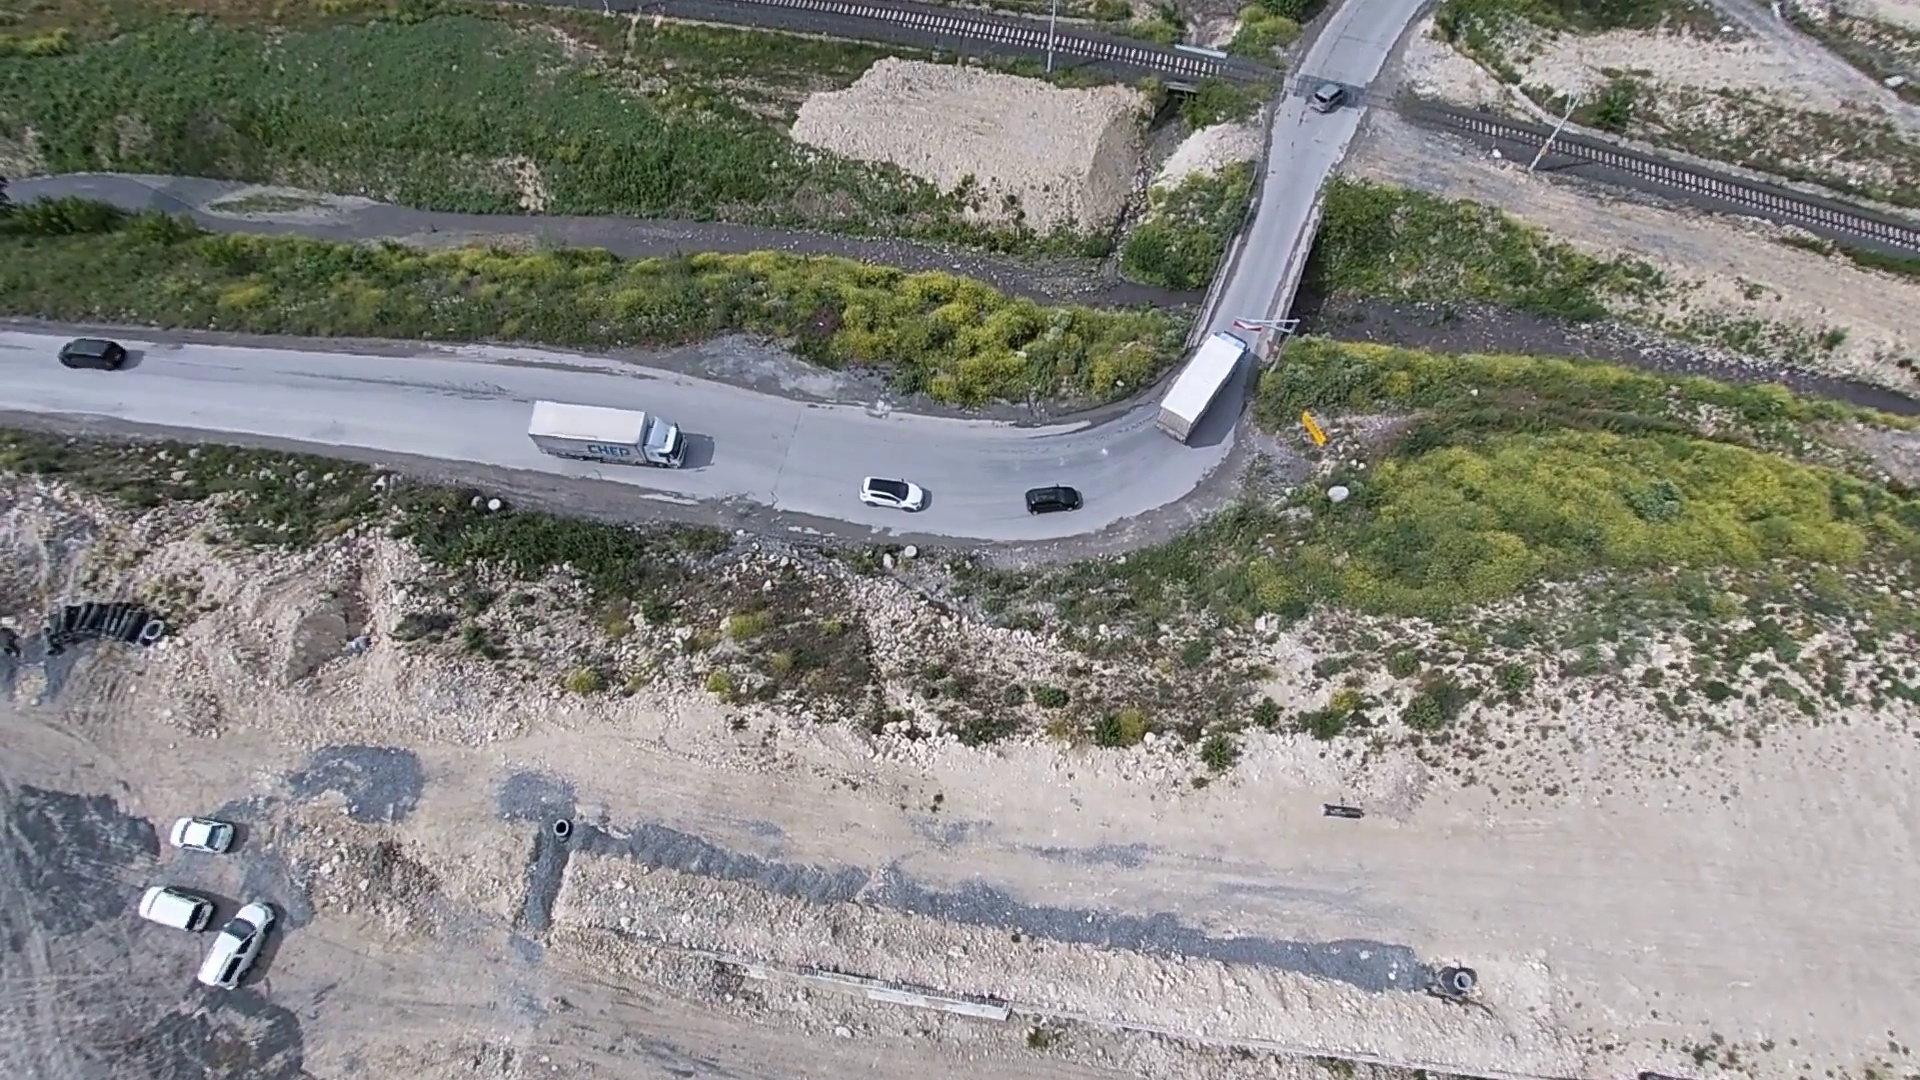arac: (525, 394, 694, 477), (1154, 323, 1249, 448), (193, 894, 282, 994), (131, 878, 220, 936), (165, 808, 240, 858), (855, 469, 927, 514), (58, 338, 125, 376), (1304, 74, 1349, 123)
